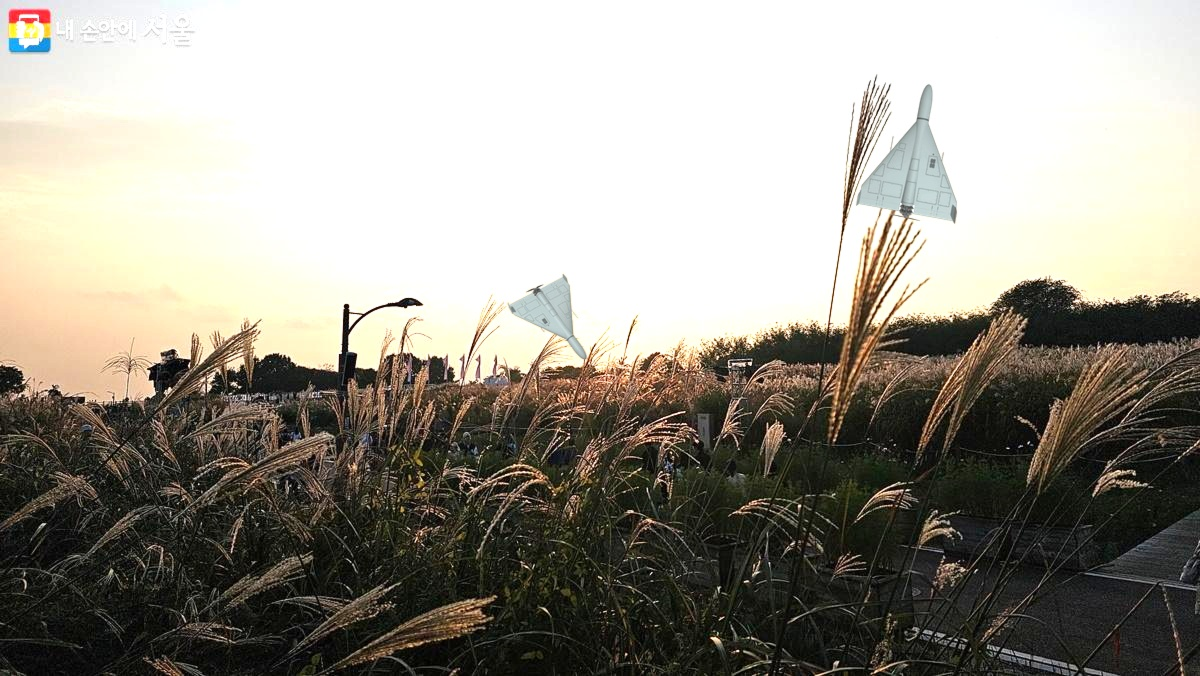shahed: (849, 81, 962, 226), (505, 271, 590, 363)
